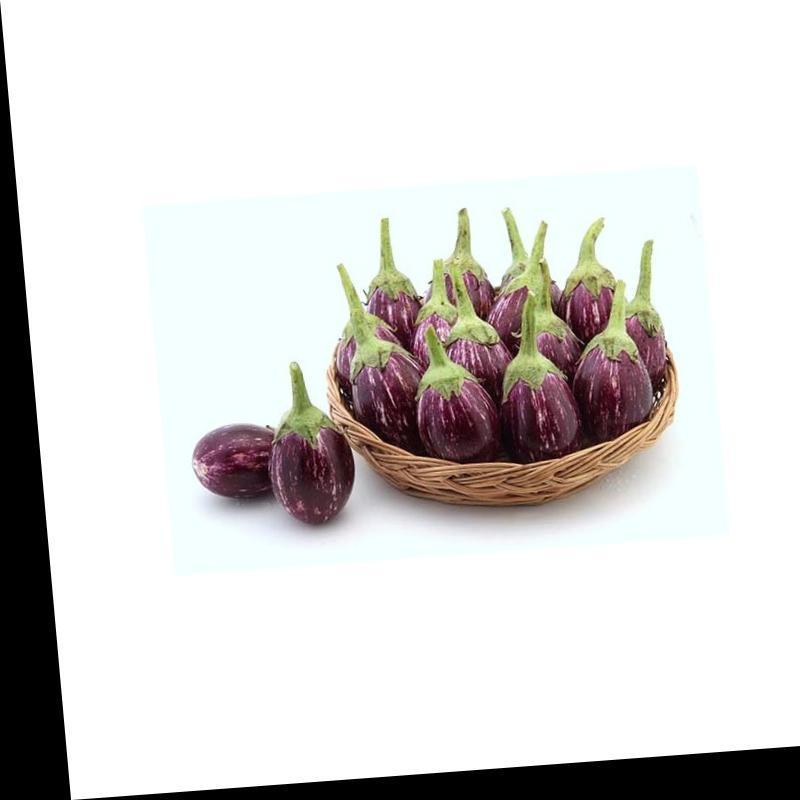eggplant: (324, 228, 698, 474), (176, 362, 342, 526)
